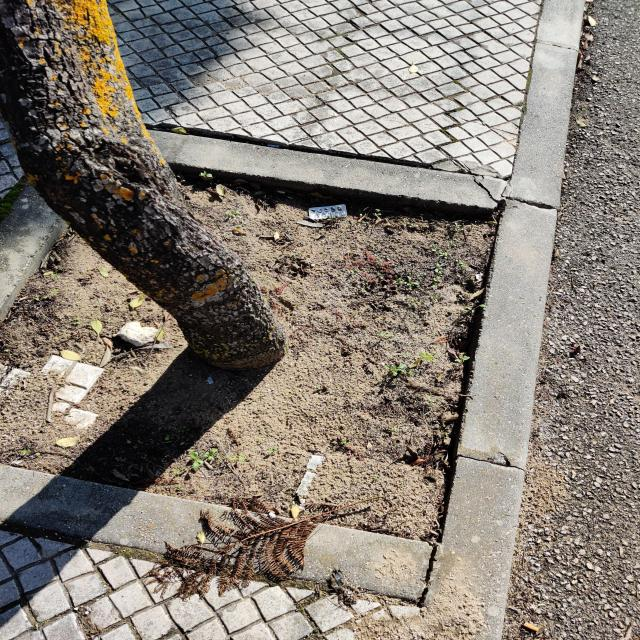litter: (110, 341, 173, 360), (308, 204, 347, 220), (205, 376, 214, 385), (268, 144, 280, 148)
